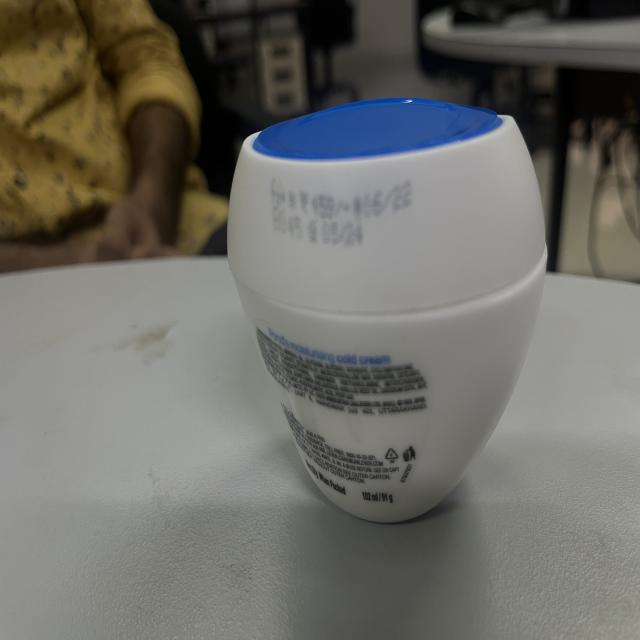L1: (220, 92, 552, 520)
